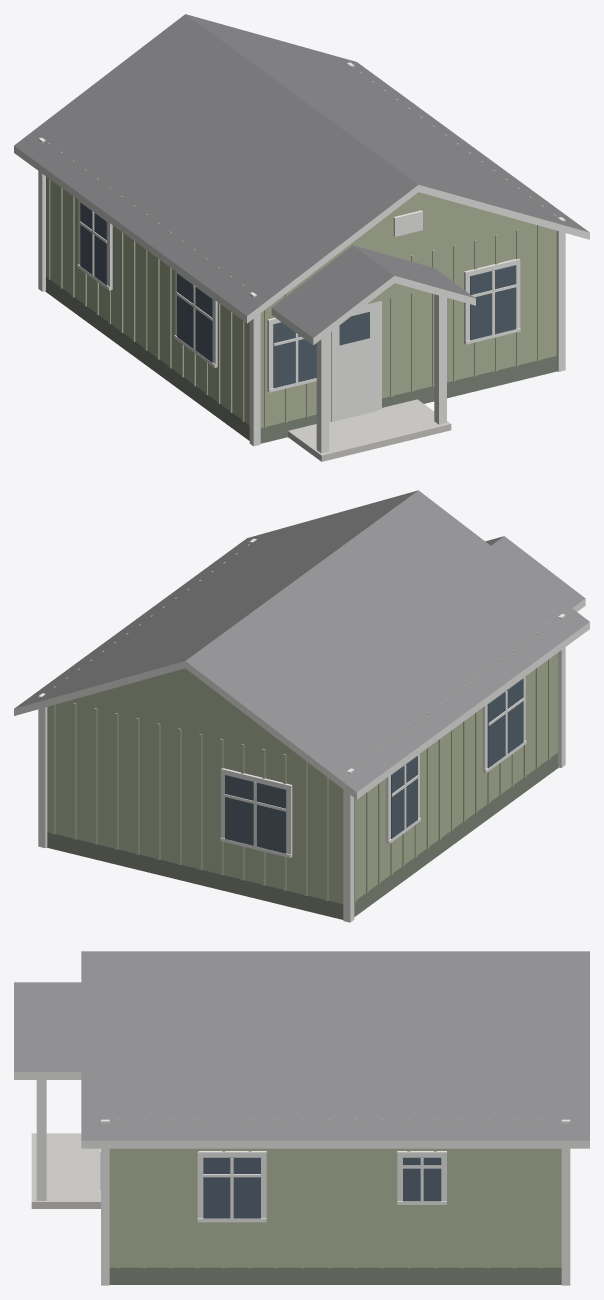
File: cherry-sage.glb
3 renders of one model, top to bottom at view 1: azimuth 30°, elevation 25°; view 2: azimuth 150°, elevation 25°; view 3: azimuth 270°, elevation 25°, orthographic. The views are drawn at different scales.
Visible parts, largest first — view 1: The Cherry (sage); view 2: The Cherry (sage); view 3: The Cherry (sage).
Part boxes in pixels (<box>): The Cherry (sage): <box>14,14,589,461</box>; The Cherry (sage): <box>14,490,589,922</box>; The Cherry (sage): <box>14,951,589,1285</box>.
Size of the model in its own units: 6.86 by 4.42 by 9.15.
